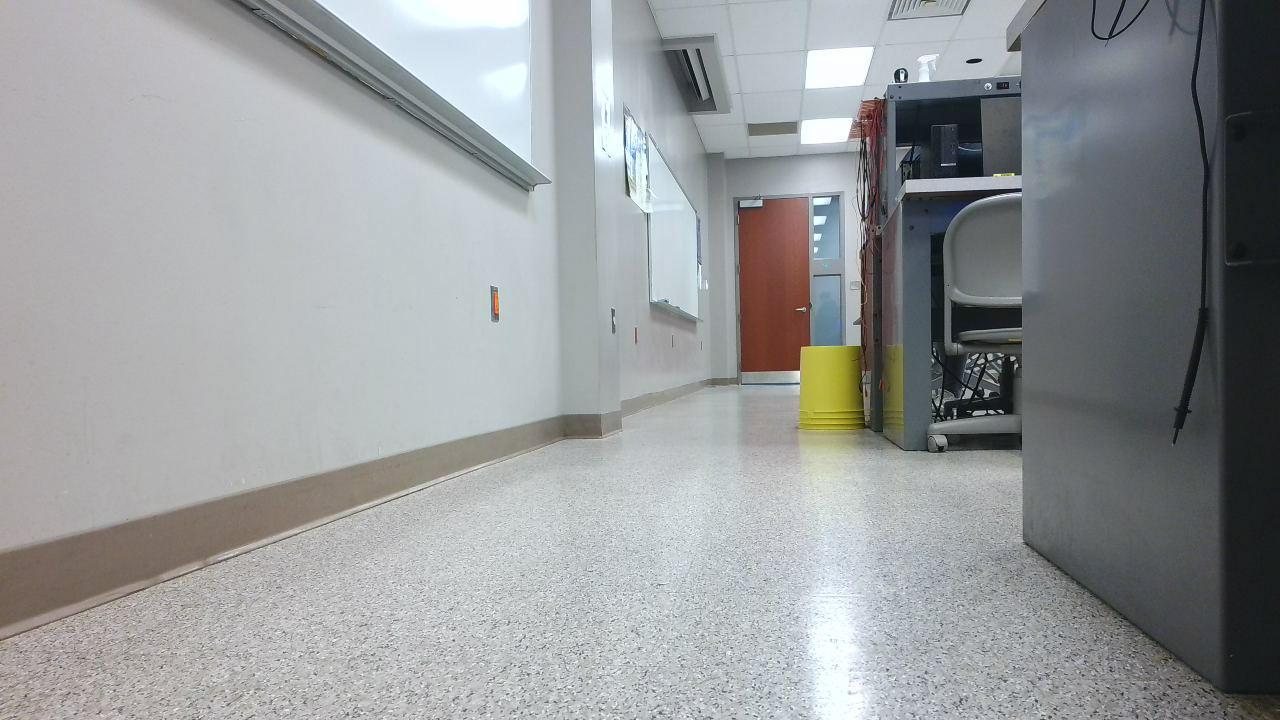yellow_bucket: (797, 347, 877, 442)
